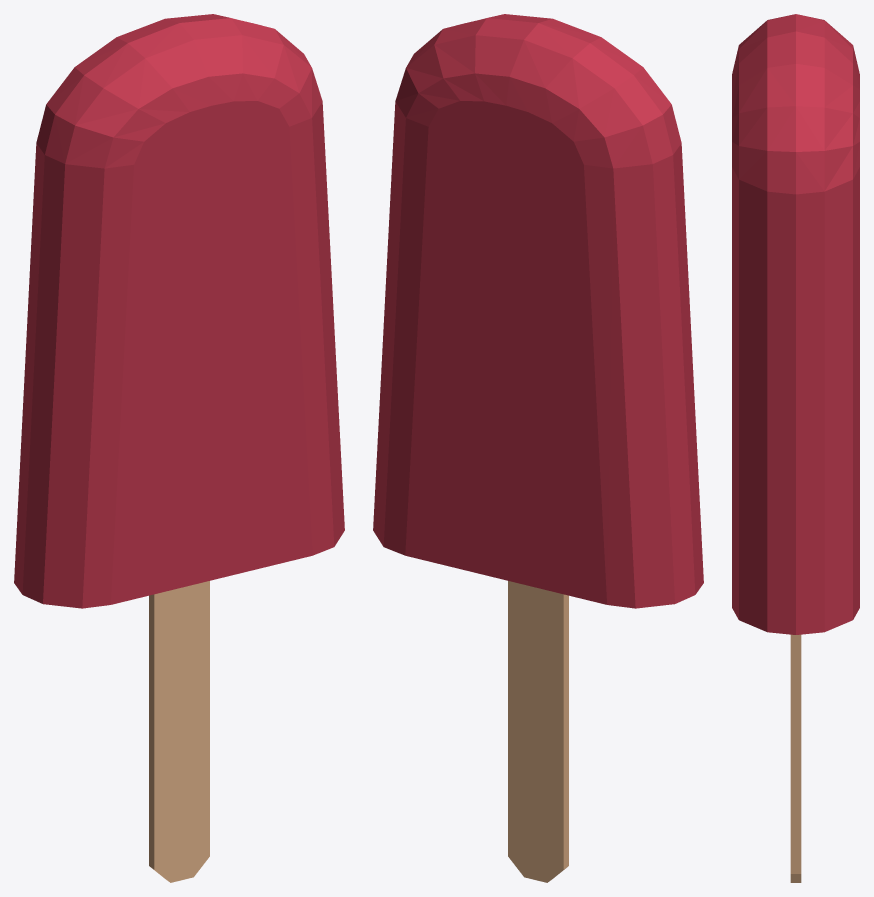
File: 61413c96-1728-490f-a94a-b95a4ceed2bd.glb
3 views of the same model, side by side, from view 1: azimuth 30°, elevation 25°; view 2: azimuth 150°, elevation 25°; view 3: azimuth 270°, elevation 25° (orthographic).
Parts seen in each view (by area): view 1: Popsicle; view 2: Popsicle; view 3: Popsicle.
Part boxes in pixels (left/top/right/bottom): Popsicle: left=14, top=14, right=344, bottom=882; Popsicle: left=373, top=14, right=703, bottom=882; Popsicle: left=732, top=14, right=859, bottom=882.
Size of the model in its own units: 41.39 by 108 by 14.74.
Materials: 1 (1 with a texture image).
